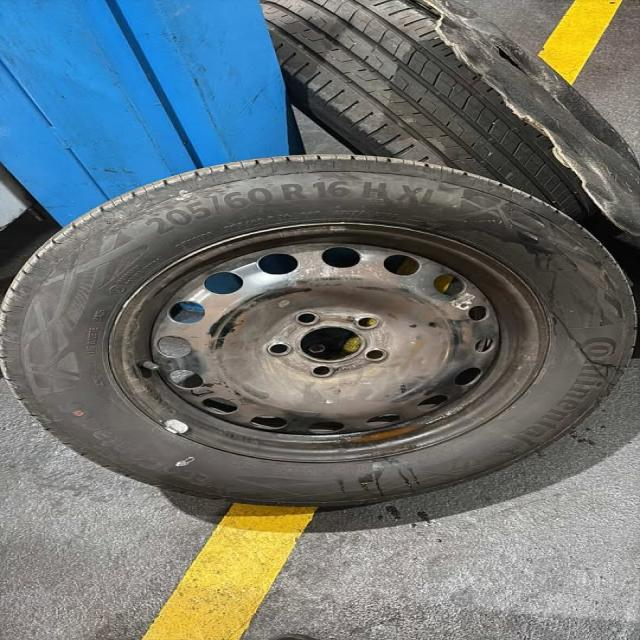jante: (105, 222, 548, 461)
roda: (0, 153, 637, 506)
